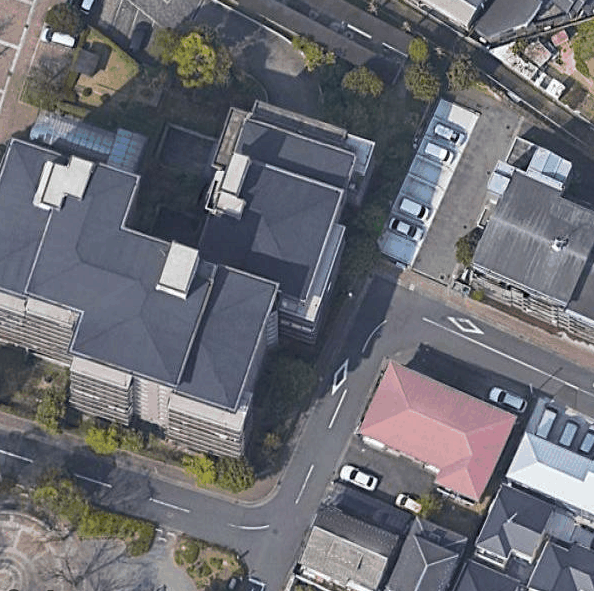rooftop: (142, 226, 220, 308)
